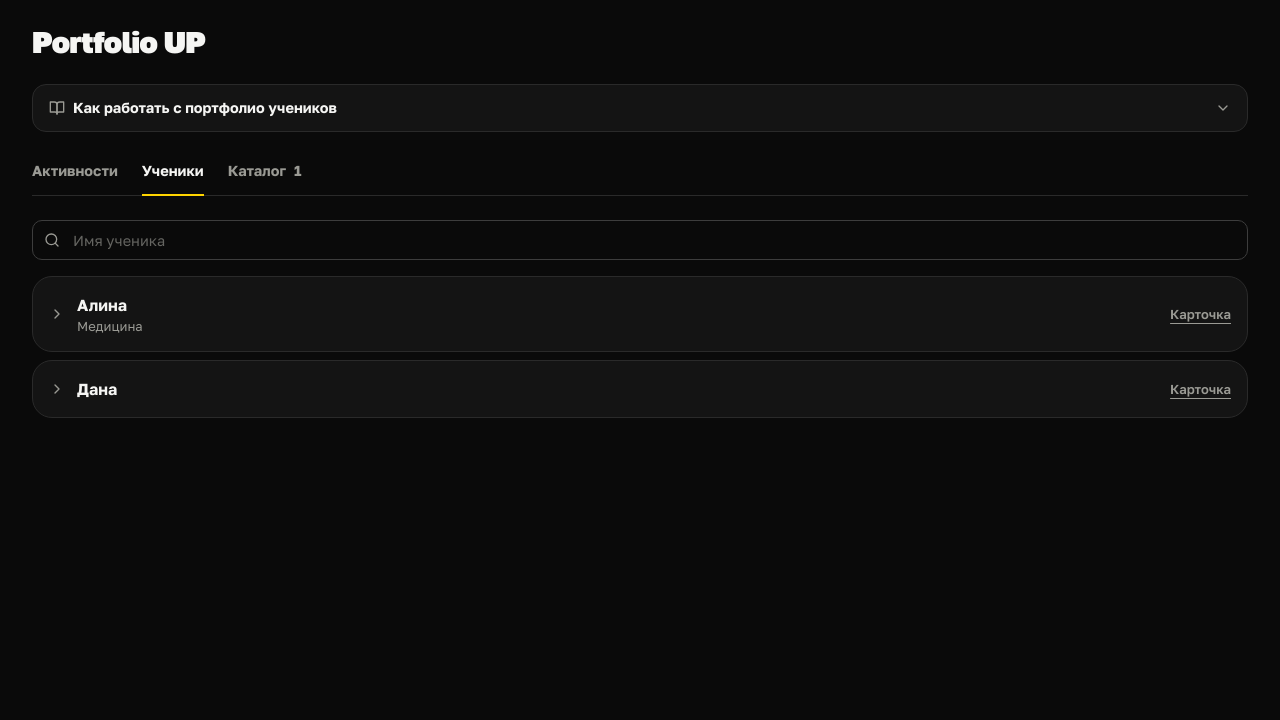
Test case: список учеников раскрывается, как Roadmap: внутри активности ученика с шагами
The image size is (1280, 720).
Step 1. Click the button "Алина Медицина" → (102, 305), box 49,293 -> 1158,335
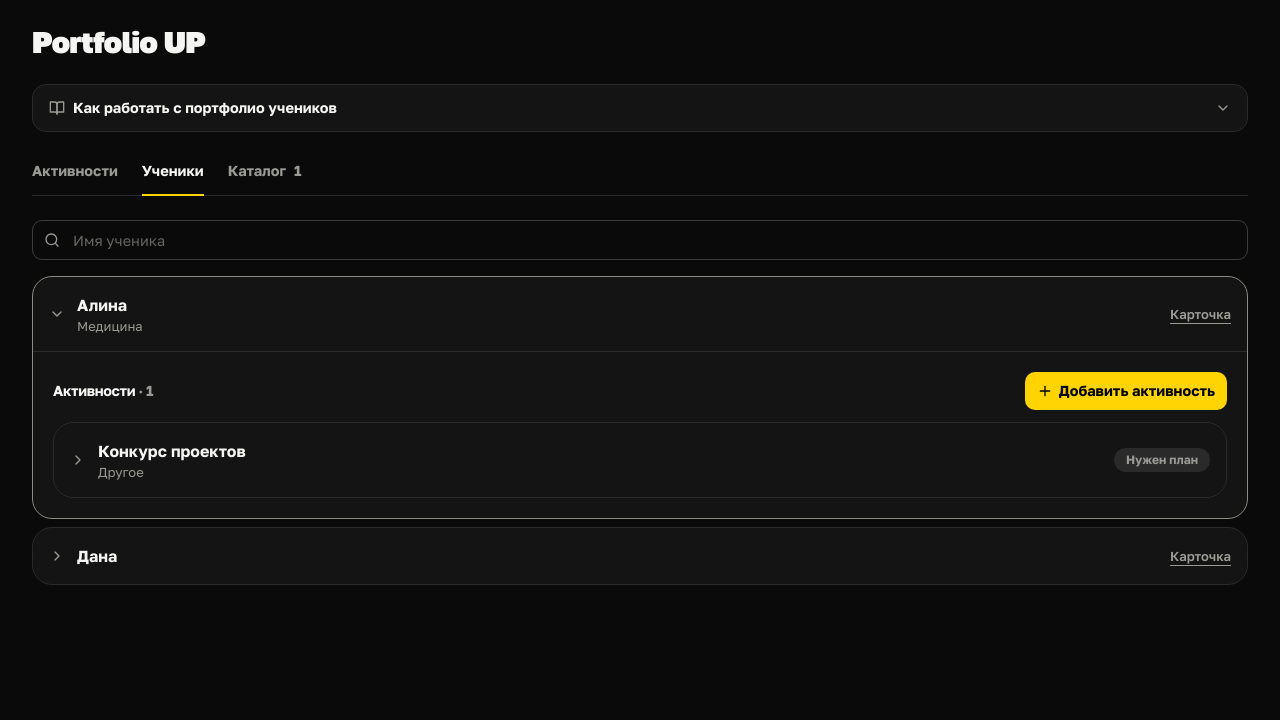
Check: the button "Конкурс проектов Другое" is shown, box 70,439 -> 1102,481
